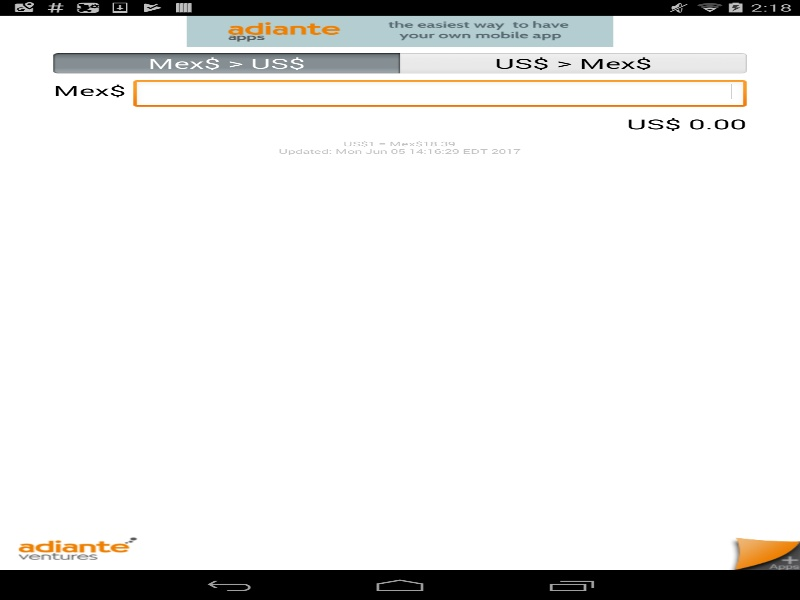Input: (133, 79, 746, 109)
